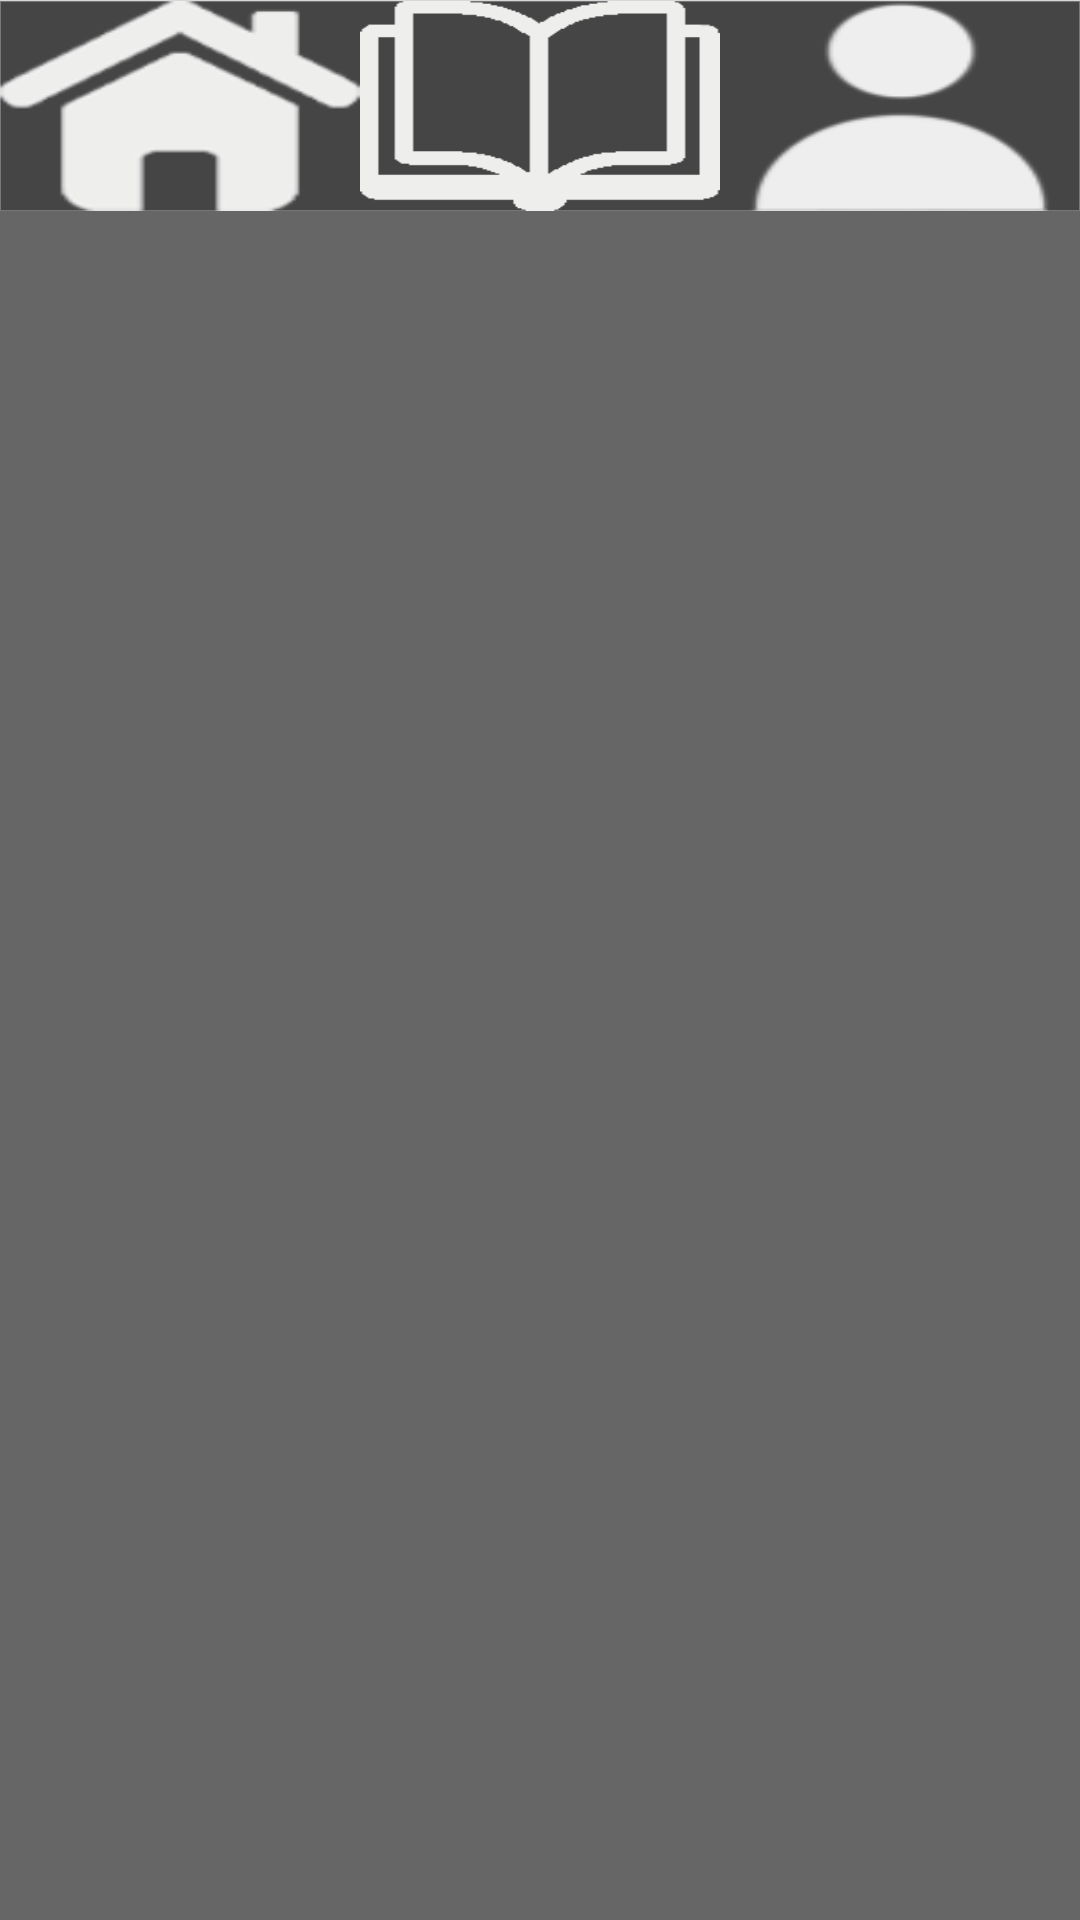

Named icons in this screenshot (1080*1920) and their centers, (x,y):
book: (540,106)
home: (180,106)
selfinfo: (900,106)
